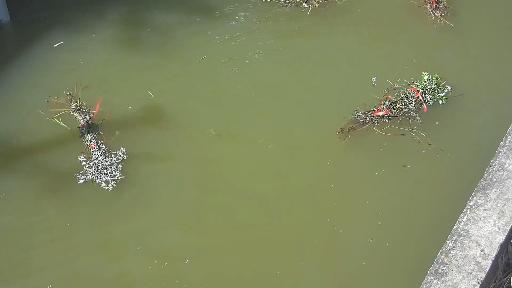twig: (320, 70, 467, 157), (35, 89, 133, 196), (405, 2, 466, 33), (257, 1, 364, 14)
